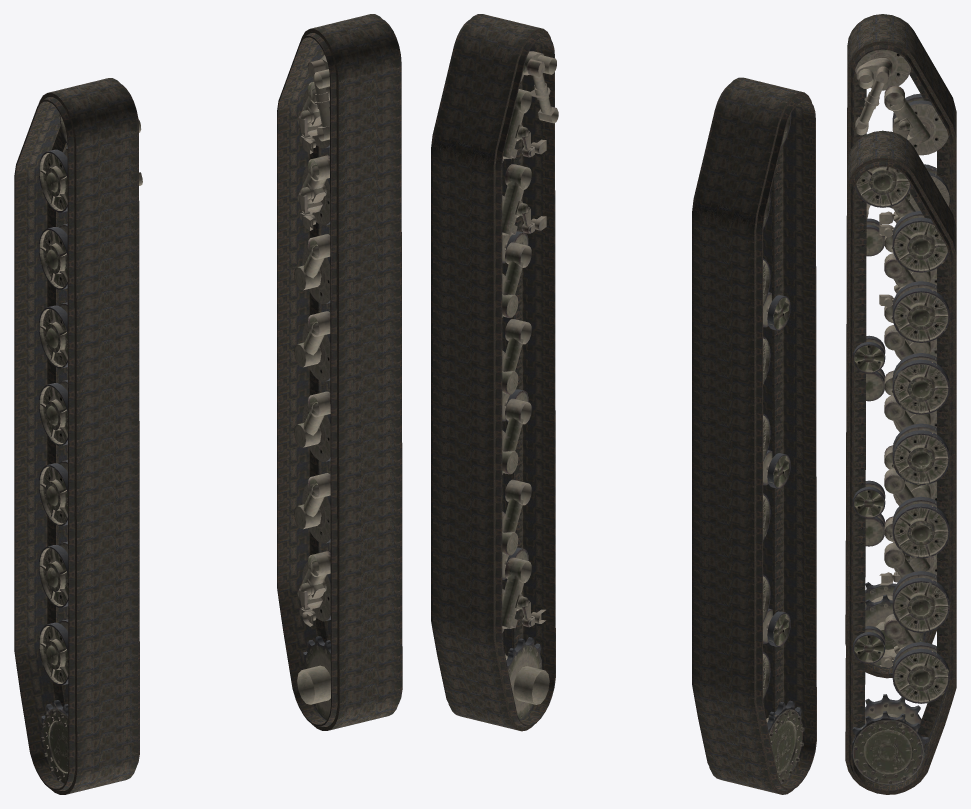
The model's file is Chassis.glb.
3 views of the same model, side by side, from view 1: azimuth 30°, elevation 25°; view 2: azimuth 150°, elevation 25°; view 3: azimuth 270°, elevation 25° (orthographic). The views are drawn at different scales.
Visible parts, largest first — view 1: set_0_group_0, set_1_group_0, set_3_group_0, set_2_group_0; view 2: set_0_group_0, set_1_group_0, set_3_group_0, set_2_group_0; view 3: set_3_group_0, set_1_group_0, set_2_group_0, set_0_group_0.
Boxes of the visible parts, x1,y1,x2,y2 form: set_0_group_0: [14, 78, 139, 794]; set_1_group_0: [277, 14, 402, 730]; set_3_group_0: [294, 52, 330, 719]; set_2_group_0: [39, 113, 142, 783]; set_0_group_0: [692, 77, 816, 794]; set_1_group_0: [431, 14, 555, 731]; set_3_group_0: [502, 51, 558, 719]; set_2_group_0: [763, 113, 804, 783]; set_3_group_0: [852, 166, 949, 784]; set_1_group_0: [845, 130, 956, 794]; set_2_group_0: [855, 49, 949, 668]; set_0_group_0: [845, 14, 956, 678].
Size of the model in its own units: 3.37 by 6.75 by 1.07.
Materials: 4 (4 with a texture image).
